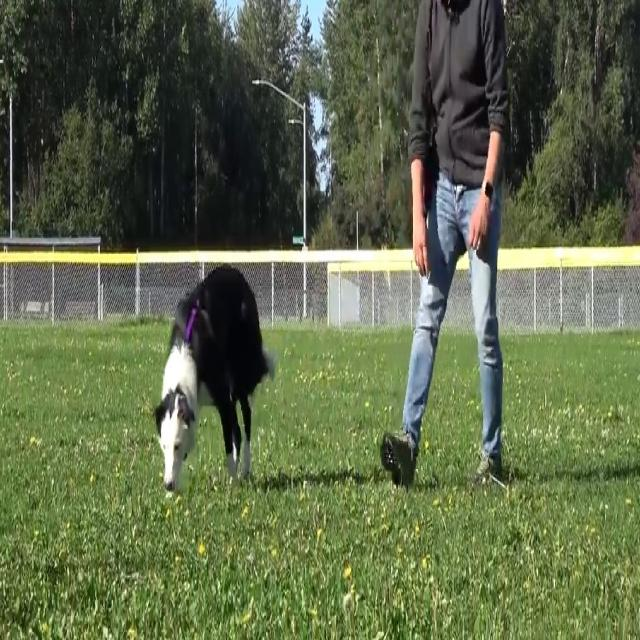Unleashed_Dog: (152, 170, 465, 498)
